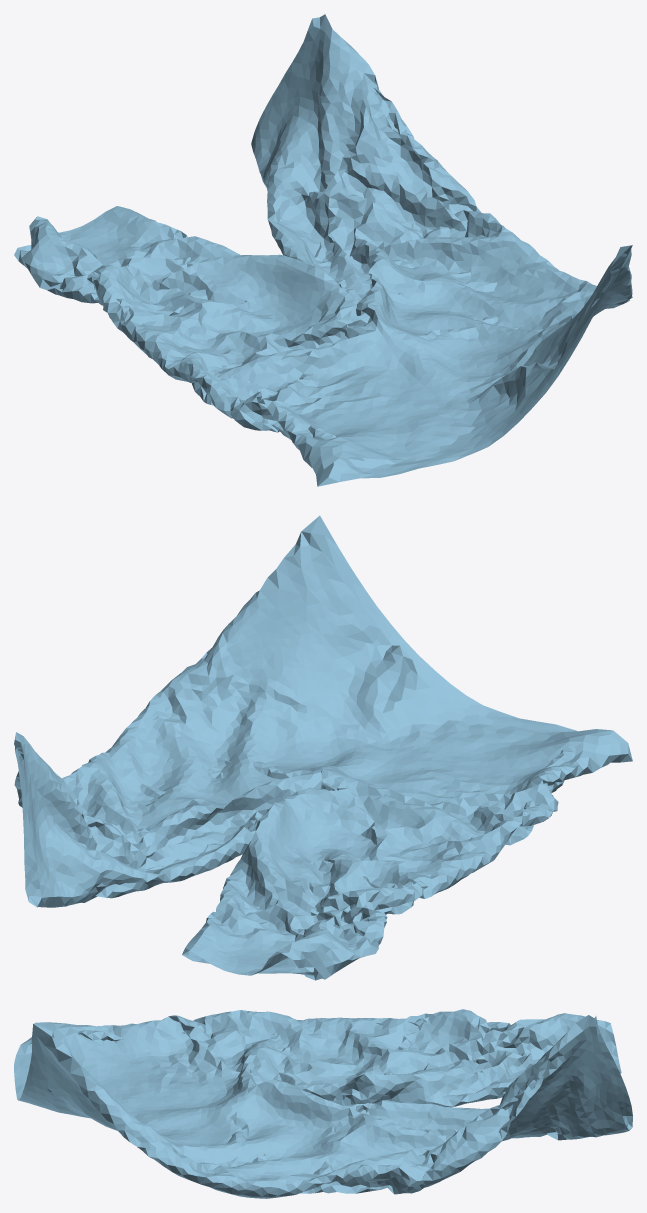
The model's file is frame_05.glb.
The picture shows the model from 3 angles, top to bottom: view 1: azimuth 30°, elevation 25°; view 2: azimuth 150°, elevation 25°; view 3: azimuth 270°, elevation 25°; orthographic projection. The views are drawn at different scales.
Visible parts, largest first — view 1: frame_05.obj; view 2: frame_05.obj; view 3: frame_05.obj.
Part boxes in pixels (x1,y1,x2,y2): frame_05.obj: (14, 14, 632, 486); frame_05.obj: (14, 515, 632, 980); frame_05.obj: (14, 1009, 632, 1198).
Size of the model in its own units: 1.2 by 0.5036 by 1.77.
